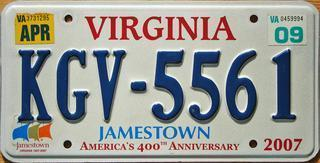placa de veiculo: (4, 1, 313, 159)
